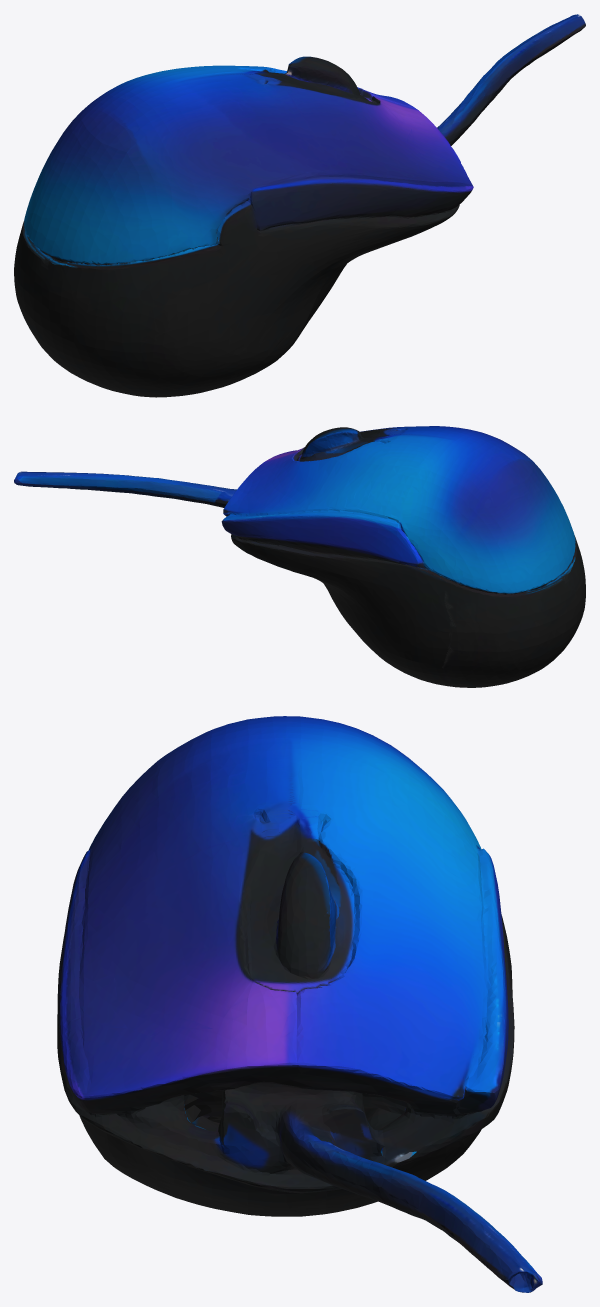
The picture shows the model from 3 angles, top to bottom: view 1: azimuth 30°, elevation 25°; view 2: azimuth 150°, elevation 25°; view 3: azimuth 270°, elevation 25°; orthographic projection. The views are drawn at different scales.
Visible parts, largest first — view 1: mouse_80.obj; view 2: mouse_80.obj; view 3: mouse_80.obj.
Boxes of the visible parts, x1=… form: mouse_80.obj: x1=14, y1=14, x2=585, y2=397; mouse_80.obj: x1=14, y1=426, x2=585, y2=687; mouse_80.obj: x1=57, y1=716, x2=542, y2=1292.
Bounding box in the file's own units: 0.07 × 0.031 × 0.0299.
1 material, 1 textured.
